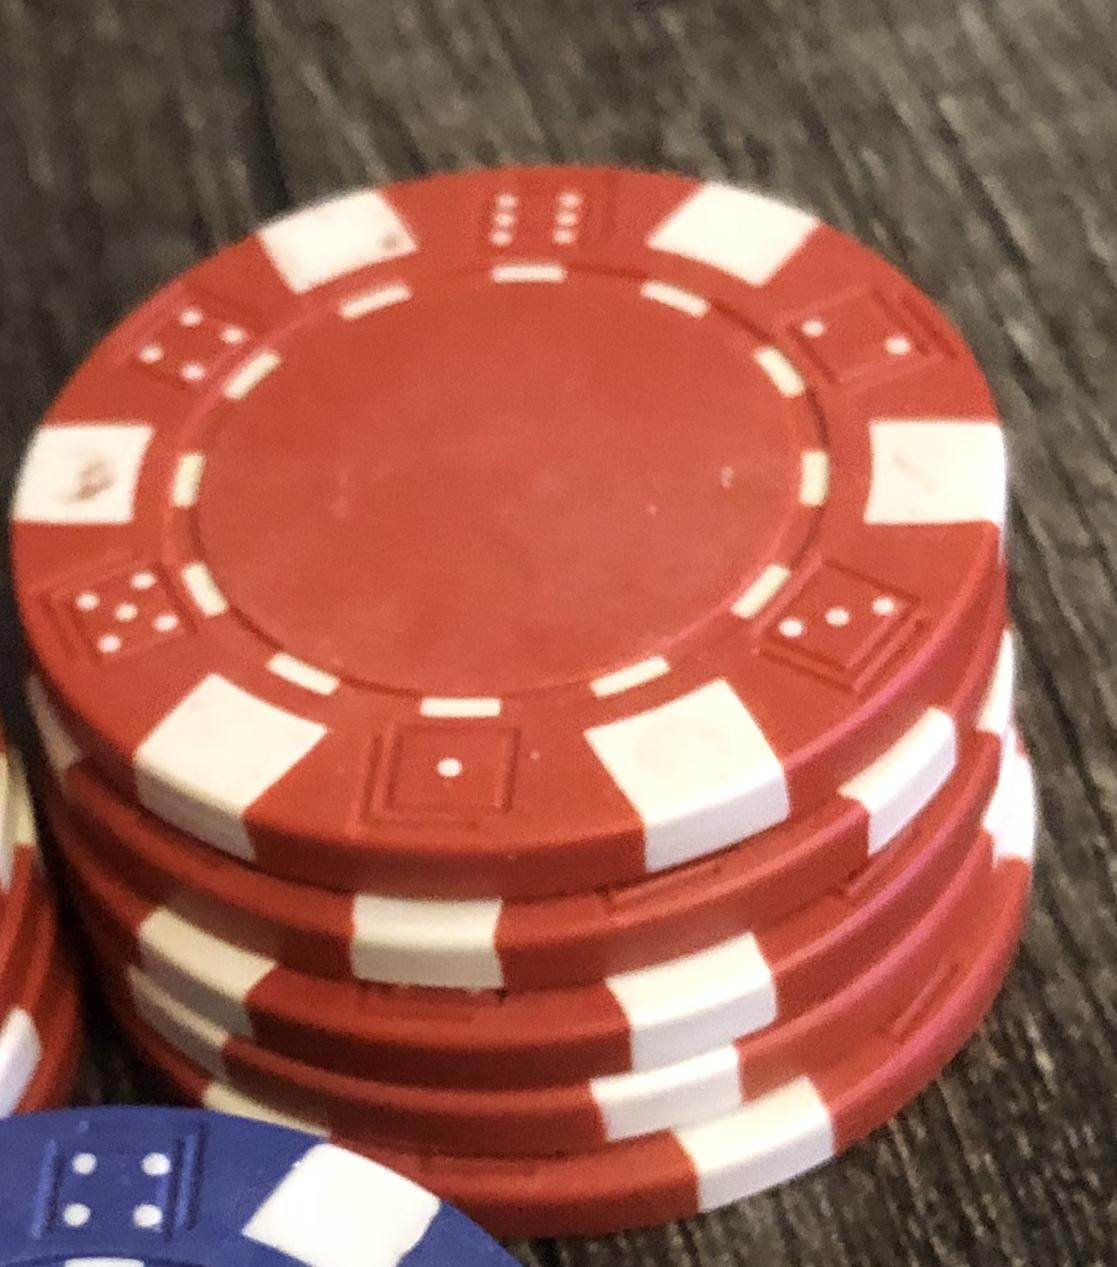Chip: (1, 1, 1117, 1267)
